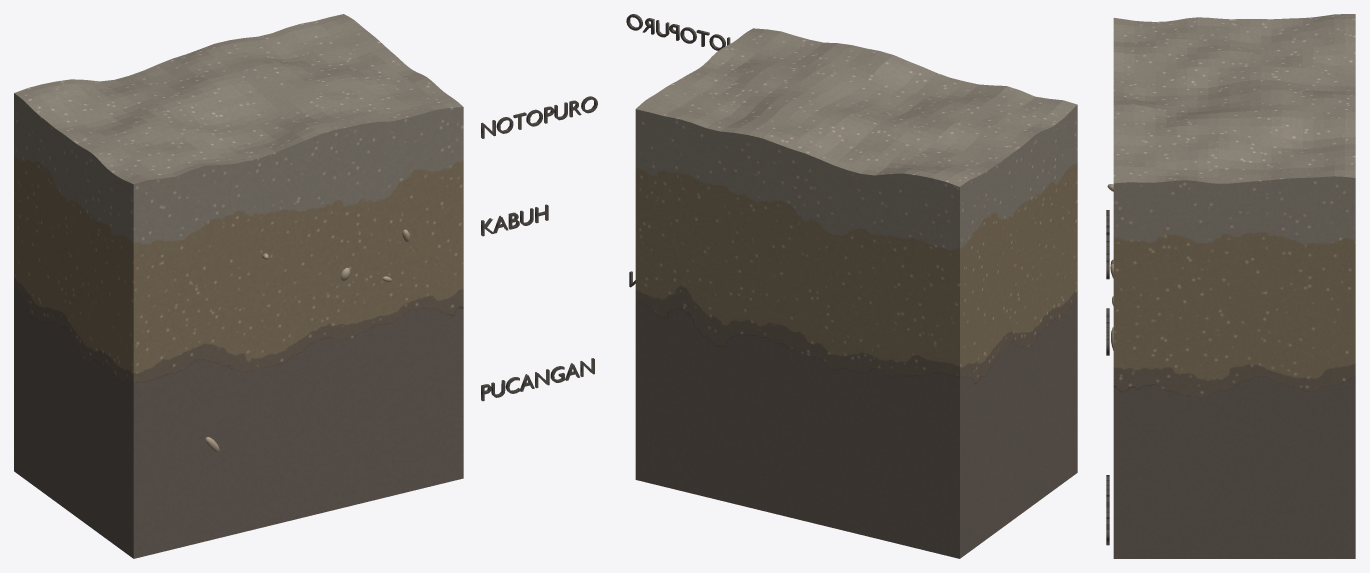
The model's file is stratigrafi-sangiran.glb.
3 views of the same model, side by side, from view 1: azimuth 30°, elevation 25°; view 2: azimuth 150°, elevation 25°; view 3: azimuth 270°, elevation 25° (orthographic). The views are drawn at different scales.
Visible parts, largest first — view 1: GEO-stratigrafi_block, LBL-notopuro, LBL-pucangan, LBL-kabuh; view 2: GEO-stratigrafi_block, LBL-notopuro; view 3: GEO-stratigrafi_block.
Boxes of the visible parts, bbox=[...] form: GEO-stratigrafi_block: bbox=[14, 14, 463, 558]; LBL-notopuro: bbox=[481, 96, 597, 138]; LBL-pucangan: bbox=[481, 358, 594, 401]; LBL-kabuh: bbox=[481, 204, 548, 236]; GEO-stratigrafi_block: bbox=[635, 28, 1077, 558]; LBL-notopuro: bbox=[626, 14, 730, 50]; GEO-stratigrafi_block: bbox=[1113, 14, 1355, 558].
Bounding box in the file's own units: 4.89 × 3.87 × 2.27.
3 materials, 1 textured.
